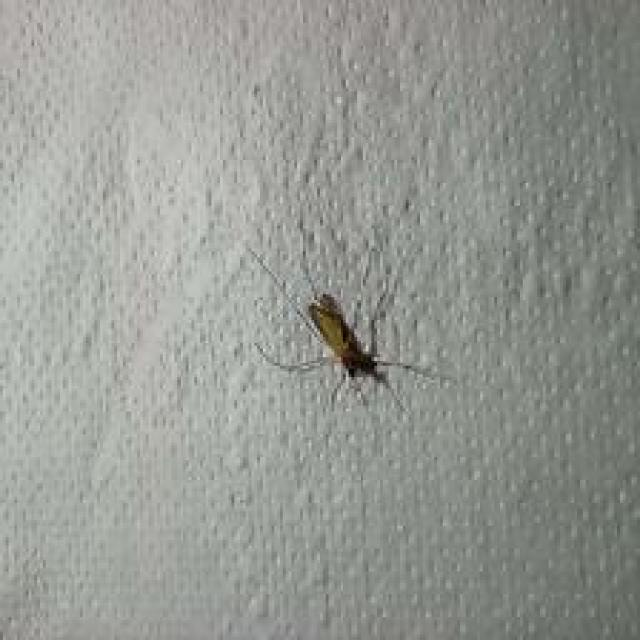Culex: (245, 246, 444, 414)
